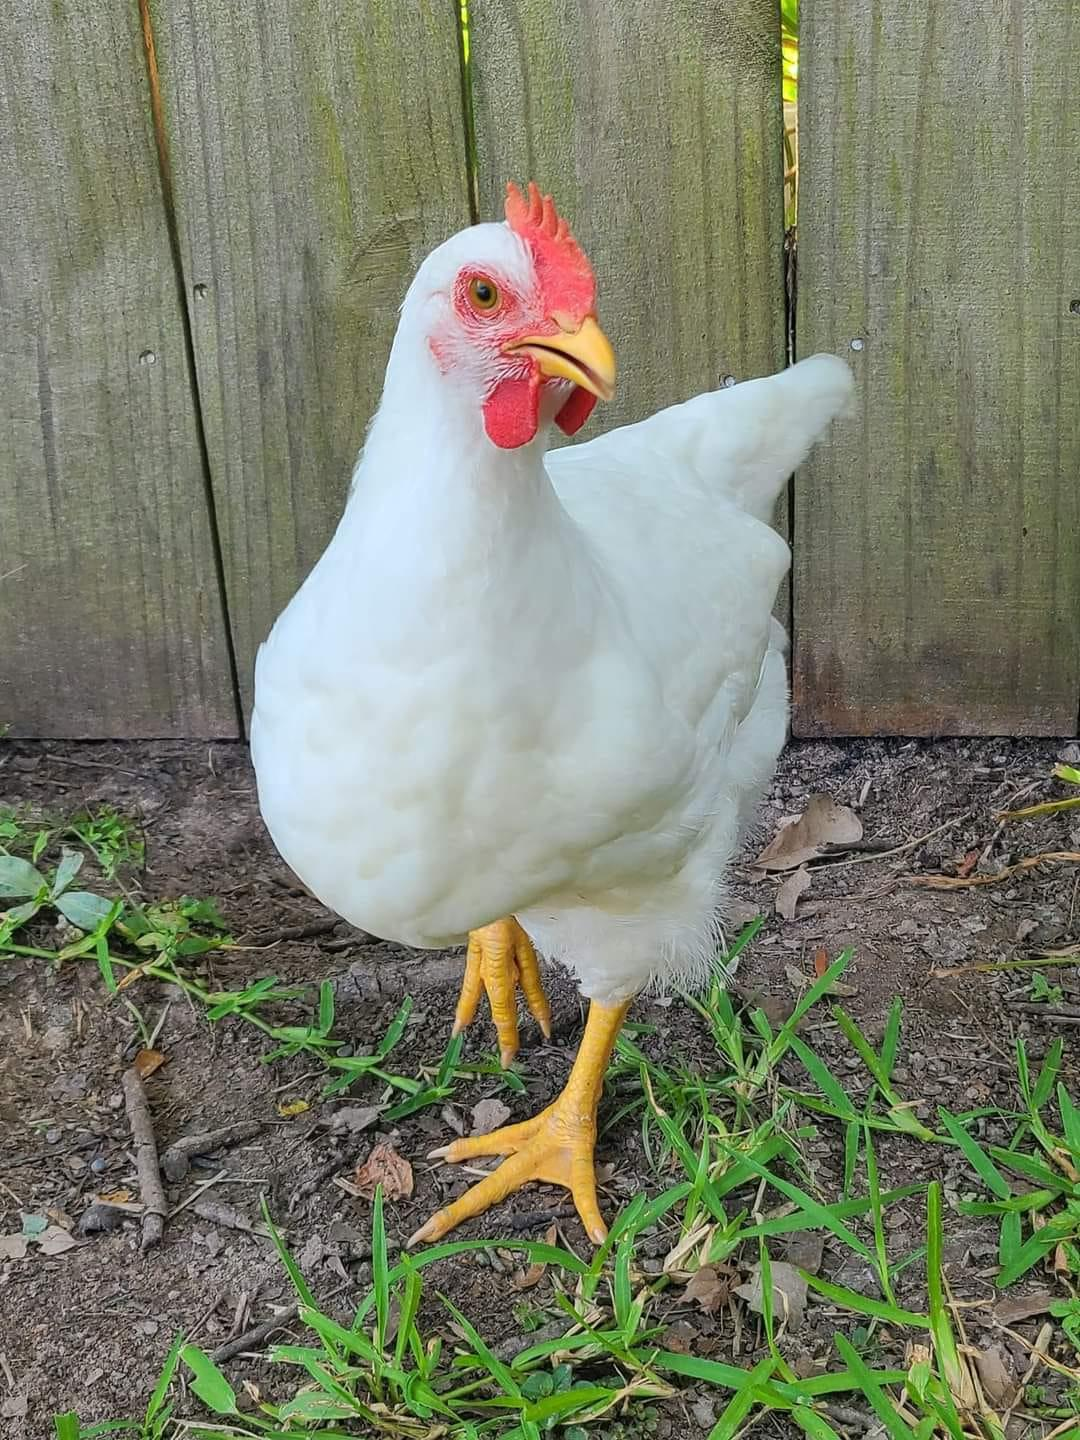Healthy: (225, 155, 874, 1284)
